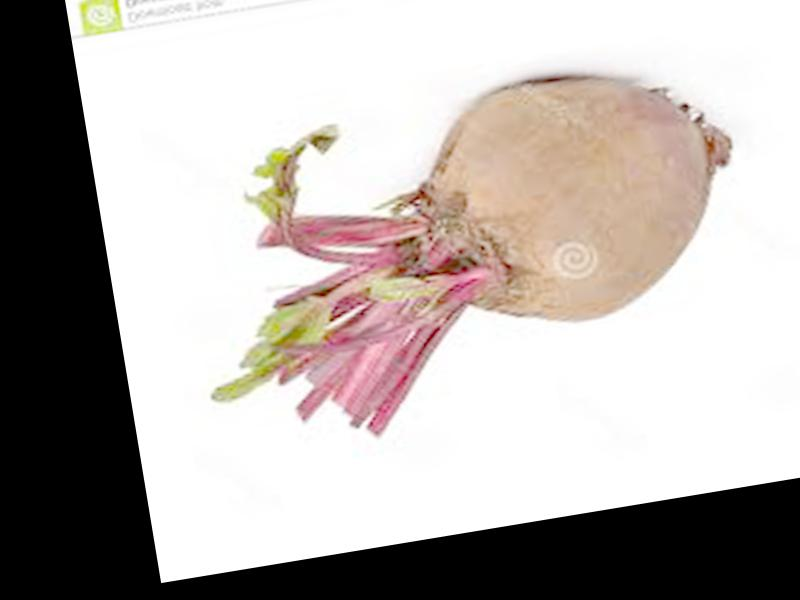Beet: (173, 54, 769, 458)
